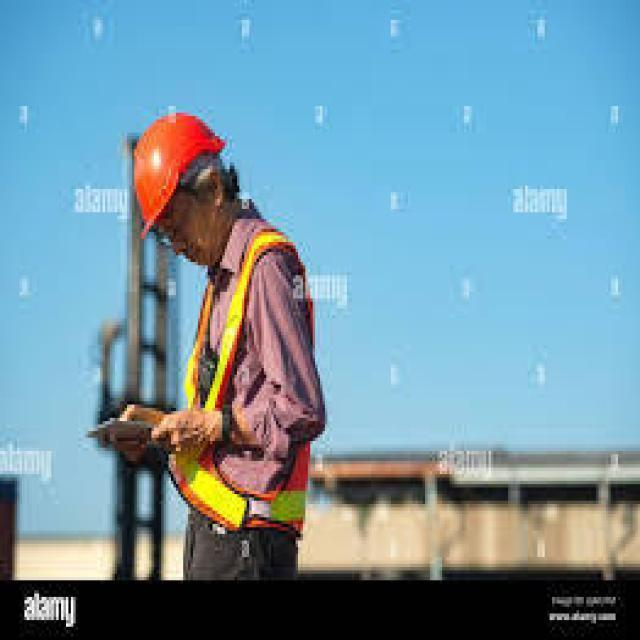safety_helmet: (170, 207, 328, 532)
